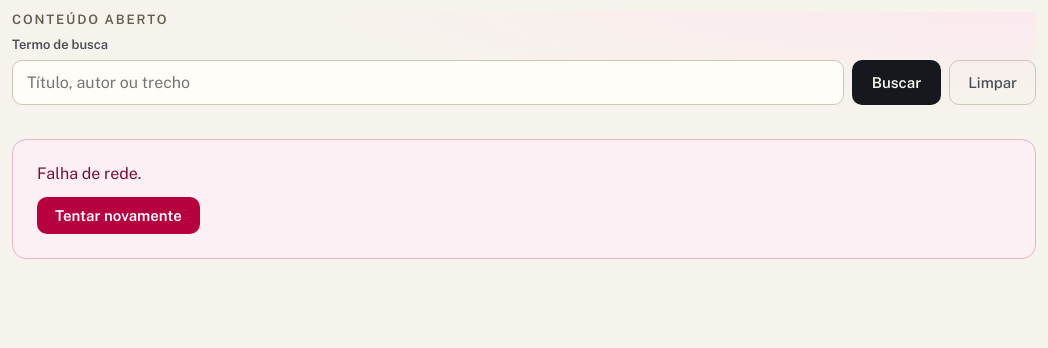
it: erro ao carregar a lista mostra mensagem e permite tentar novamente
This screenshot has width=1048, height=348.
Expected: the message reads "Falha de rede.", [37,164,142,183]
Click the button "Tentar novamente": [118, 216] box [37,197,200,234]
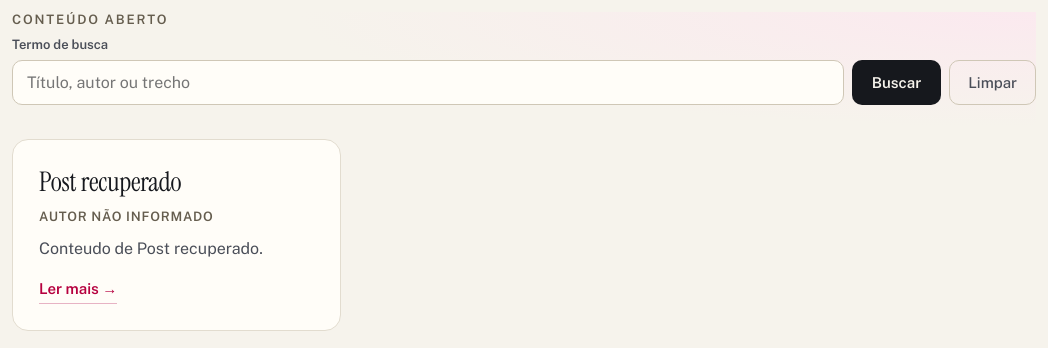
Now the heading "Post recuperado" is shown, box [39,164,181,199]
